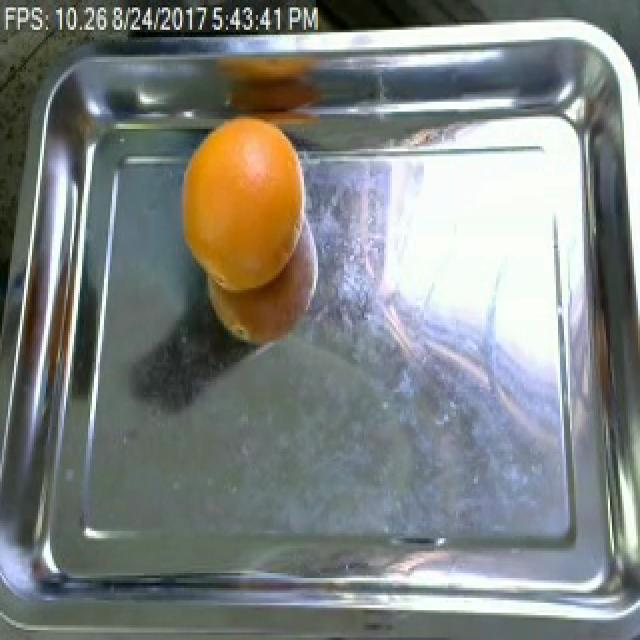Fruit: (176, 111, 314, 308)
